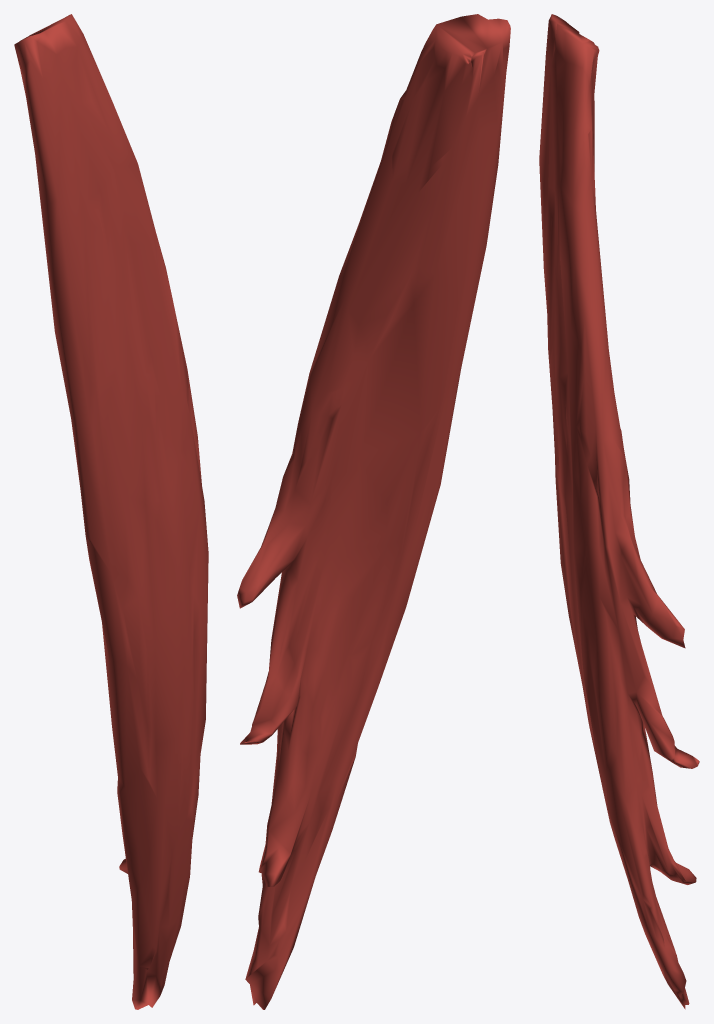
Rendered from musculos-longus-capitis-muscle-l.glb.
The picture shows the model from 3 angles, left to right: view 1: azimuth 30°, elevation 25°; view 2: azimuth 150°, elevation 25°; view 3: azimuth 270°, elevation 25°; orthographic projection. The views are drawn at different scales.
Visible parts, largest first — view 1: Longus capitis muscle.l; view 2: Longus capitis muscle.l; view 3: Longus capitis muscle.l.
Part boxes in pixels (x1,y1,x2,y2): Longus capitis muscle.l: [14, 14, 208, 1009]; Longus capitis muscle.l: [237, 14, 510, 1009]; Longus capitis muscle.l: [539, 14, 699, 1009].
Size of the model in its own units: 0.0243 by 0.1101 by 0.0175.
